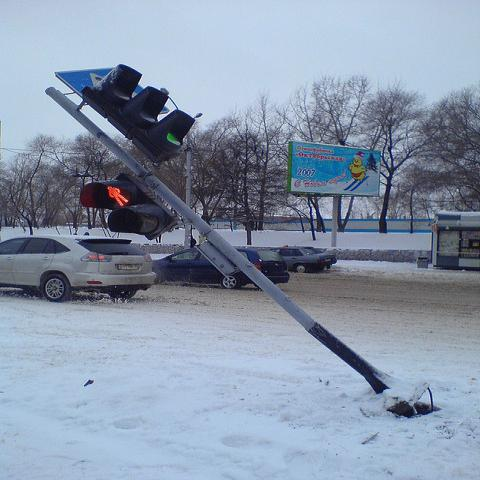car: (0, 233, 157, 303), (153, 248, 257, 289), (269, 245, 337, 273)
